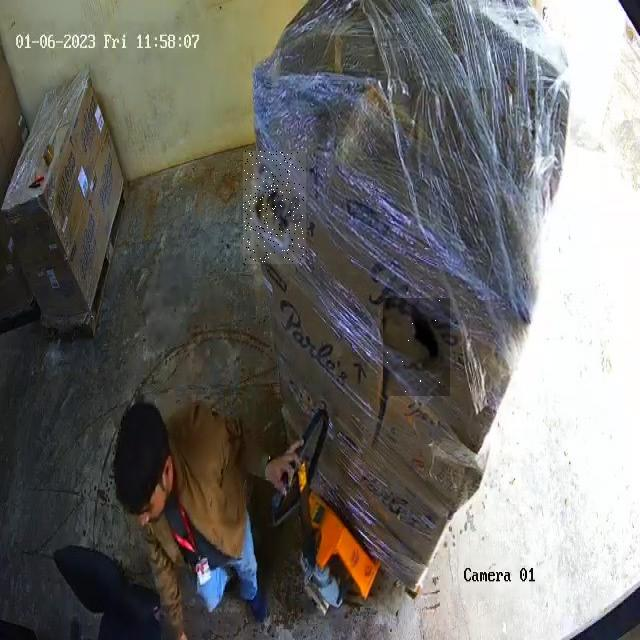leakage: (244, 152, 304, 262), (384, 299, 448, 395)
